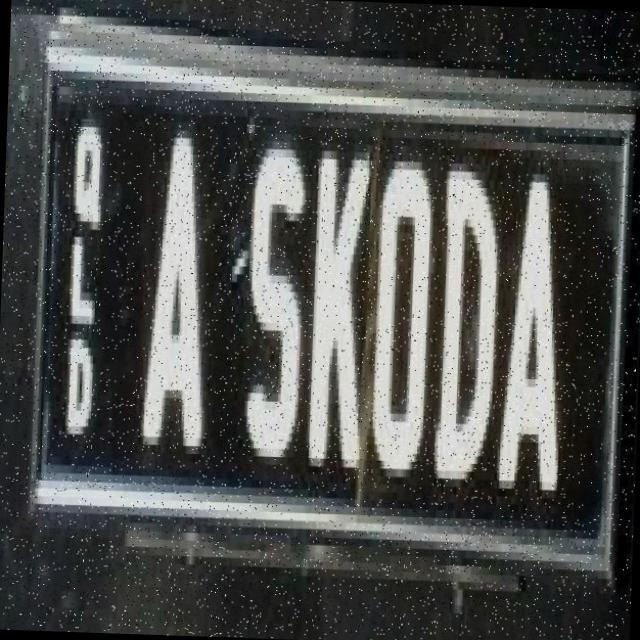LicensePlate: (13, 19, 640, 612)
